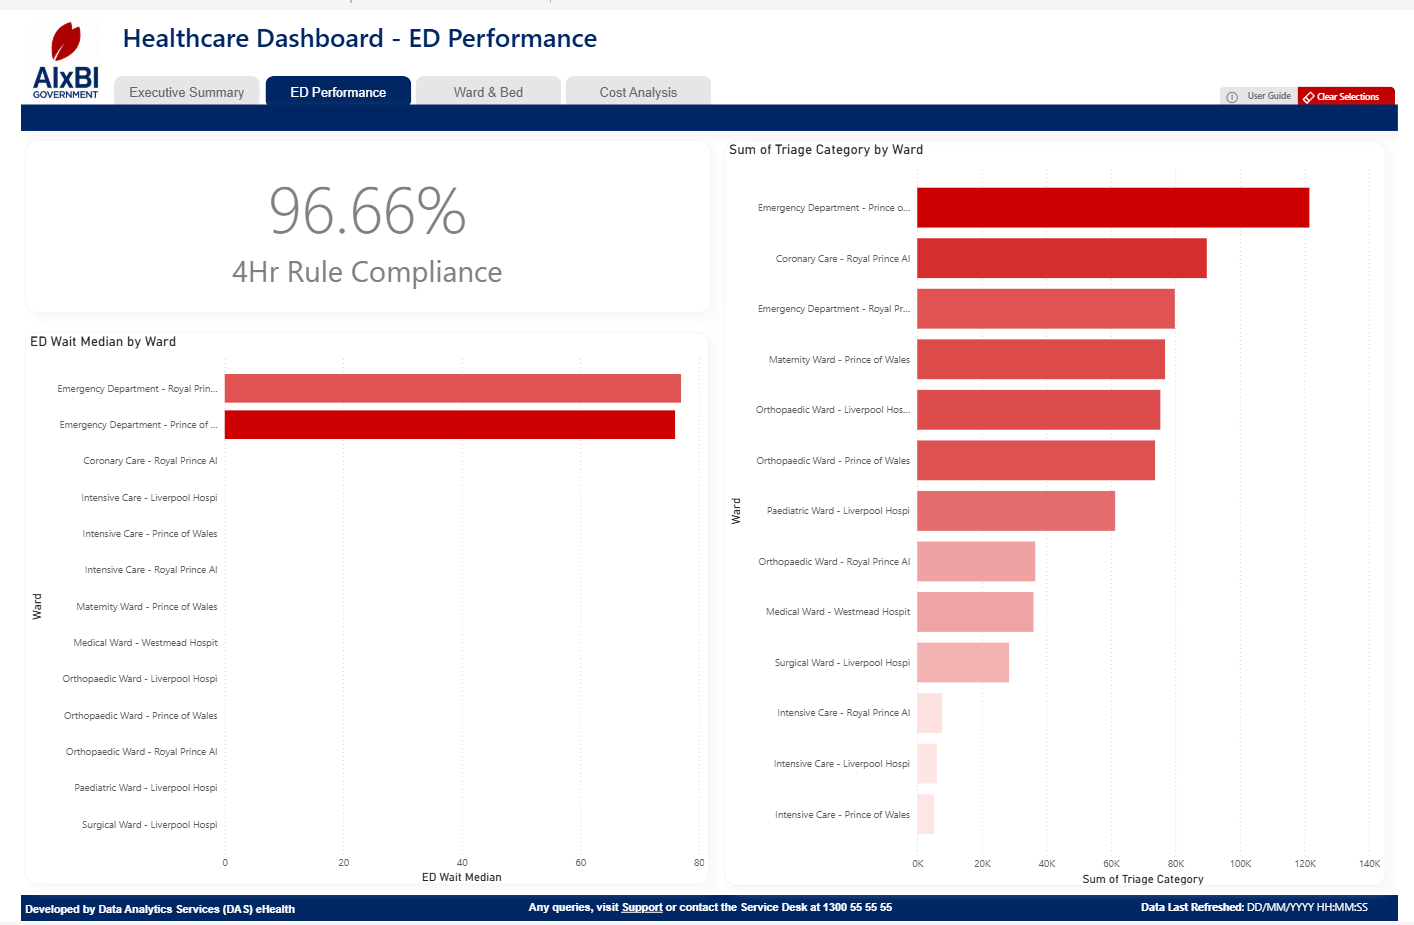

The dashboard page shown, as its layout file describes it:
{"tool":"powerbi","page":{"name":"ED Performance","canvas":[1700,1126],"ordinal":1},"visuals":[{"type":"image","box":[5,15,100,95],"z":0},{"type":"textbox","box":[0,1093,531.2,31.1],"z":0,"group":"g1"},{"type":"textbox","box":[120,5,798.3,58.3],"z":1000,"group":"g2"},{"type":"textbox","box":[1.4,1092,1698.6,31.4],"z":1000,"group":"g1"},{"type":"actionButton","title":"User Button","box":[1479.4,95.3,107.8,25],"z":2000},{"type":"actionButton","title":"Clear Button","box":[1575.7,95,120.7,25.6],"z":3000},{"type":"group","id":"g1","title":"Footer Group","box":[0,1092,1700,32],"z":5000},{"type":"group","id":"g2","title":"Page Header","box":[120,5,798.3,58.3],"z":6000},{"type":"actionButton","title":"Account Button","box":[114.3,81.4,180,40],"z":7000},{"type":"actionButton","title":"Account Button","box":[301.4,81.4,180,40],"z":8000},{"type":"textbox","box":[1377.1,1092.9,322.9,31.4],"z":9000},{"type":"actionButton","title":"Account Button","box":[487.1,81.7,180,40],"z":10000},{"type":"actionButton","title":"Account Button","box":[672.3,81.5,180,40],"z":11000},{"type":"shape","box":[0,115.8,1700,32.9],"z":12000},{"type":"clusteredBarChart","fields":{"Category":["dim_ward.ward_name"],"Y":["fact_admissions.ED Wait Median"]},"box":[5.7,398.6,844.3,681.4],"z":13000},{"type":"clusteredBarChart","fields":{"Category":["dim_ward.ward_name"],"Y":["Sum(fact_admissions.triage_category)"]},"box":[868.6,161.4,815.7,920],"z":14000},{"type":"cardVisual","fields":{"Data":["fact_admissions.4Hr Rule Compliance"]},"box":[5.7,161.4,845.7,212.9],"z":15000}]}

Visuals, with their boxes in screenshot pixels (x1, y1, x2, y2), scaled from the page's 1700x1126 canvas onto the 1414x925 screenshot:
image: pyautogui.locateOnScreen(4, 12, 87, 90)
textbox: pyautogui.locateOnScreen(0, 898, 442, 923)
textbox: pyautogui.locateOnScreen(100, 4, 764, 52)
textbox: pyautogui.locateOnScreen(1, 897, 1413, 923)
"User Button" actionButton: pyautogui.locateOnScreen(1231, 78, 1320, 99)
"Clear Button" actionButton: pyautogui.locateOnScreen(1311, 78, 1411, 99)
"Footer Group" group: pyautogui.locateOnScreen(0, 897, 1413, 923)
"Page Header" group: pyautogui.locateOnScreen(100, 4, 764, 52)
"Account Button" actionButton: pyautogui.locateOnScreen(95, 67, 245, 100)
"Account Button" actionButton: pyautogui.locateOnScreen(251, 67, 400, 100)
textbox: pyautogui.locateOnScreen(1145, 898, 1413, 924)
"Account Button" actionButton: pyautogui.locateOnScreen(405, 67, 555, 100)
"Account Button" actionButton: pyautogui.locateOnScreen(559, 67, 709, 100)
shape: pyautogui.locateOnScreen(0, 95, 1413, 122)
clusteredBarChart - dim_ward.ward_name x fact_admissions.ED Wait Median: pyautogui.locateOnScreen(5, 327, 707, 887)
clusteredBarChart - dim_ward.ward_name x Sum(fact_admissions.triage_category): pyautogui.locateOnScreen(722, 133, 1401, 888)
cardVisual - fact_admissions.4Hr Rule Compliance: pyautogui.locateOnScreen(5, 133, 708, 307)
